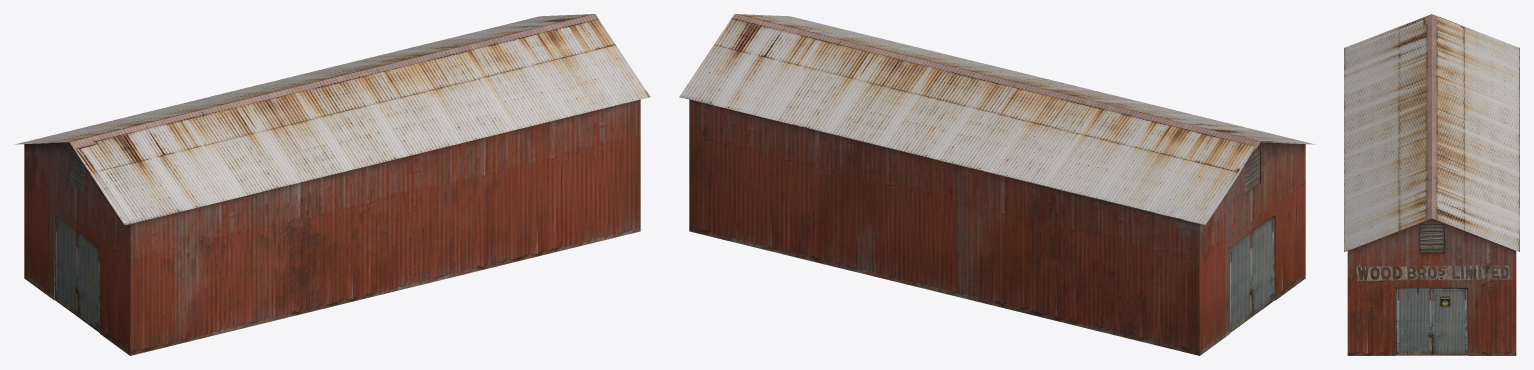
The model's file is warehouse3d.glb.
3 renders of one model, left to right at view 1: azimuth 30°, elevation 25°; view 2: azimuth 150°, elevation 25°; view 3: azimuth 270°, elevation 25°, orthographic. The views are drawn at different scales.
Visible parts, largest first — view 1: pCube22; view 2: pCube22; view 3: pCube22.
Boxes of the visible parts, bbox=[...] form: pCube22: bbox=[15, 14, 650, 355]; pCube22: bbox=[679, 14, 1314, 355]; pCube22: bbox=[1344, 14, 1519, 355].
Size of the model in its own units: 0.2653 by 0.0852 by 0.0965.
Materials: 1 (1 with a texture image).
